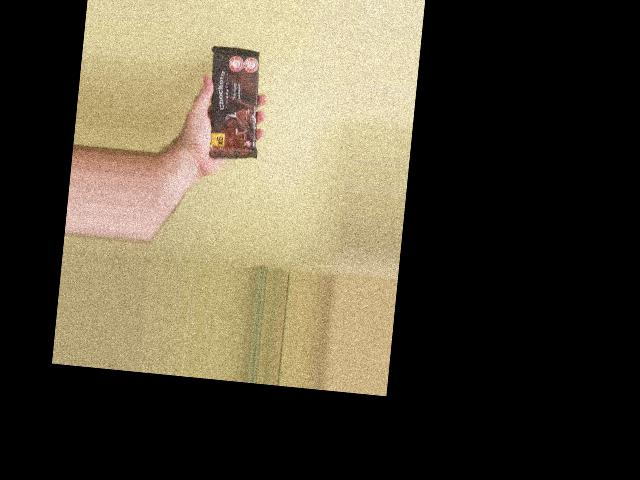chocolate: (199, 46, 267, 162)
